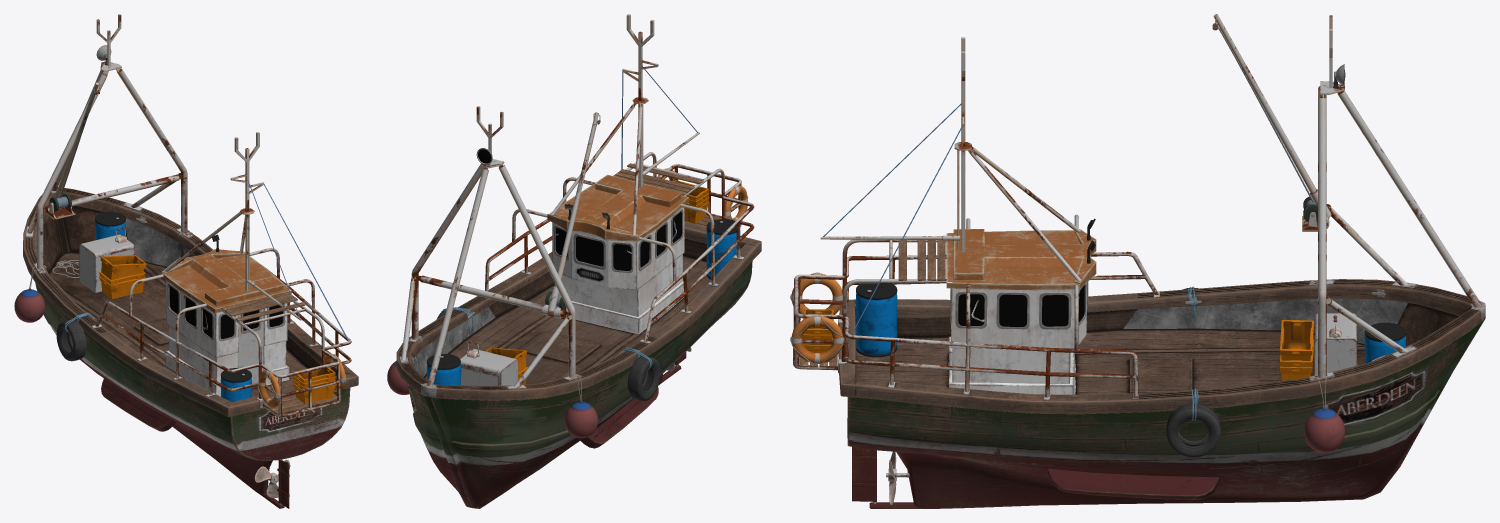
File: boat model.fbx
3 renders of one model, left to right at view 1: azimuth 30°, elevation 25°; view 2: azimuth 150°, elevation 25°; view 3: azimuth 270°, elevation 25°, orthographic. The views are drawn at different scales.
Parts seen in each view (by area): view 1: pCube1.001, Vert.002, Cylinder.003, Vert, pCube1.002, Cube.009, Cylinder.018, Cube.028, Roundcube, Cylinder.021, Torus, Cylinder.027 (+8 smaller); view 2: pCube1.001, Cylinder.003, Vert.002, Vert.008, Vert, Roundcube, Cylinder.018, Cube.009, Cylinder.021, Vert.009, Cylinder.008, Cylinder.027 (+3 smaller); view 3: pCube1.001, Vert.002, Cylinder.003, Cylinder.021, Vert.008, Torus, Cylinder.026, Vert, Roundcube, Cylinder.008, Vert.009, Cube.028 (+5 smaller).
Part boxes in pixels (left/top/right/bottom): pCube1.001: left=23, top=188, right=358, bottom=508; Vert.002: left=95, top=266, right=351, bottom=417; Cylinder.003: left=27, top=68, right=187, bottom=268; Vert: left=129, top=248, right=324, bottom=365; pCube1.002: left=238, top=309, right=263, bottom=383; Cube.009: left=230, top=132, right=263, bottom=290; Cylinder.018: left=56, top=319, right=86, bottom=361; Cube.028: left=100, top=255, right=146, bottom=279; Roundcube: left=14, top=288, right=45, bottom=322; Cylinder.021: left=220, top=368, right=251, bottom=401; Torus: left=258, top=354, right=345, bottom=407; Cylinder.027: left=95, top=211, right=125, bottom=240; pCube1.001: left=396, top=174, right=761, bottom=508; Cylinder.003: left=401, top=163, right=575, bottom=387; Vert.002: left=485, top=164, right=754, bottom=341; Vert.008: left=427, top=168, right=488, bottom=386; Vert: left=512, top=152, right=724, bottom=282; Roundcube: left=387, top=360, right=597, bottom=438; Cylinder.018: left=627, top=356, right=660, bottom=400; Cube.009: left=622, top=14, right=658, bottom=187; Cylinder.021: left=706, top=219, right=740, bottom=279; Vert.009: left=547, top=112, right=598, bottom=311; Cylinder.008: left=550, top=103, right=642, bottom=235; Cylinder.027: left=427, top=354, right=460, bottom=385; pCube1.001: left=838, top=229, right=1485, bottom=508; Vert.002: left=793, top=251, right=1158, bottom=397; Cylinder.003: left=1318, top=86, right=1407, bottom=377; Cylinder.021: left=856, top=283, right=897, bottom=357; Vert.008: left=1337, top=91, right=1481, bottom=307; Torus: left=790, top=272, right=844, bottom=363; Cylinder.026: left=1166, top=403, right=1220, bottom=457; Vert: left=842, top=214, right=1078, bottom=350; Roundcube: left=1304, top=407, right=1344, bottom=452; Cylinder.008: left=968, top=146, right=1080, bottom=280; Vert.009: left=1213, top=14, right=1331, bottom=217; Cube.028: left=1280, top=320, right=1313, bottom=363.
Size of the model in its own units: 670 by 1215 by 1580.
